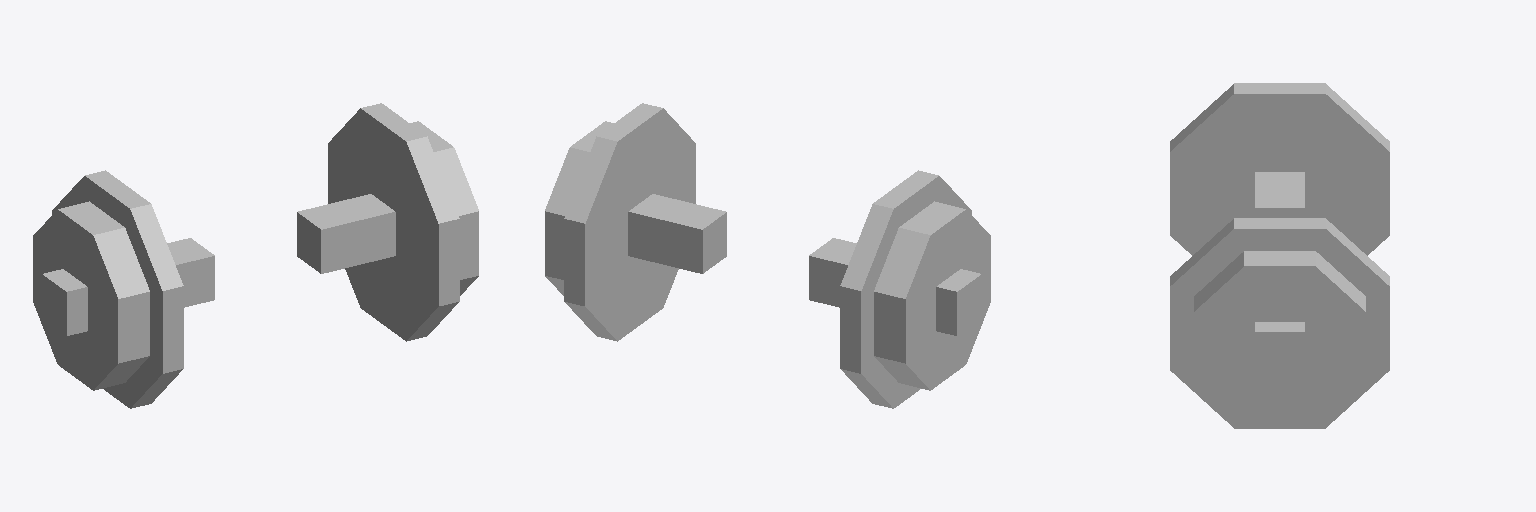
File: wheels.obj
3 renders of one model, left to right at view 1: azimuth 30°, elevation 25°; view 2: azimuth 150°, elevation 25°; view 3: azimuth 270°, elevation 25°, orthographic.
Parts seen in each view (by area): view 1: 18x18_ALT_Cube.002_1, 18x18_ALT_Cube.002_0, cube_1, cube_0; view 2: 18x18_ALT_Cube.002_1, 18x18_ALT_Cube.002_0, cube_1, cube_0; view 3: 18x18_ALT_Cube.002_0, 18x18_ALT_Cube.002_1, cube_1, cube_0.
Boxes of the visible parts, x1=… form: 18x18_ALT_Cube.002_1: x1=33, y1=170, x2=183, y2=408; 18x18_ALT_Cube.002_0: x1=328, y1=103, x2=478, y2=341; cube_1: x1=297, y1=194, x2=395, y2=273; cube_0: x1=42, y1=238, x2=214, y2=335; 18x18_ALT_Cube.002_1: x1=840, y1=170, x2=990, y2=408; 18x18_ALT_Cube.002_0: x1=545, y1=103, x2=695, y2=341; cube_1: x1=628, y1=194, x2=726, y2=273; cube_0: x1=809, y1=238, x2=981, y2=335; 18x18_ALT_Cube.002_0: x1=1170, y1=218, x2=1389, y2=428; 18x18_ALT_Cube.002_1: x1=1170, y1=83, x2=1389, y2=255; cube_1: x1=1255, y1=322, x2=1304, y2=376; cube_0: x1=1255, y1=172, x2=1304, y2=217.
Size of the model in its own units: 2.38 by 1.12 by 1.12.